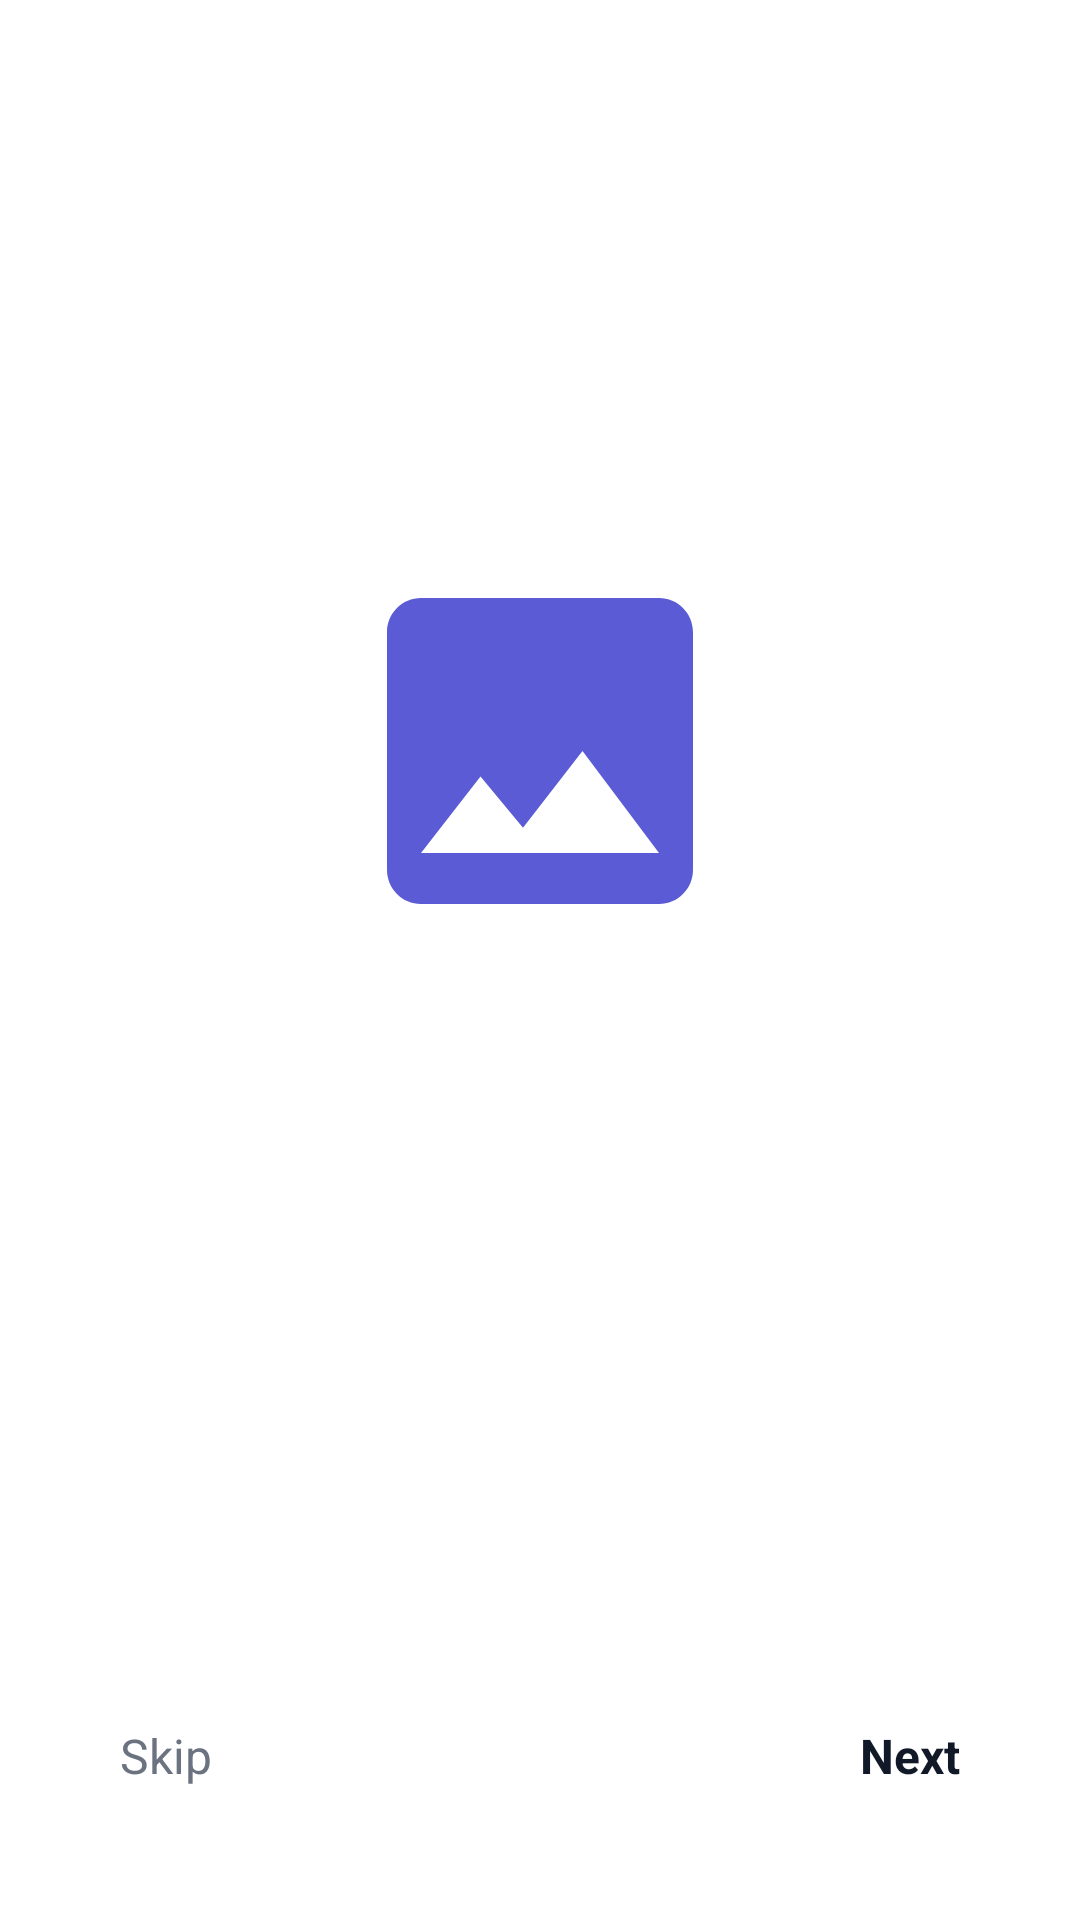

Icons on this 1080 × 1920 Android screen, each with the point to tap as (x,y):
Screen image: (540,751)
